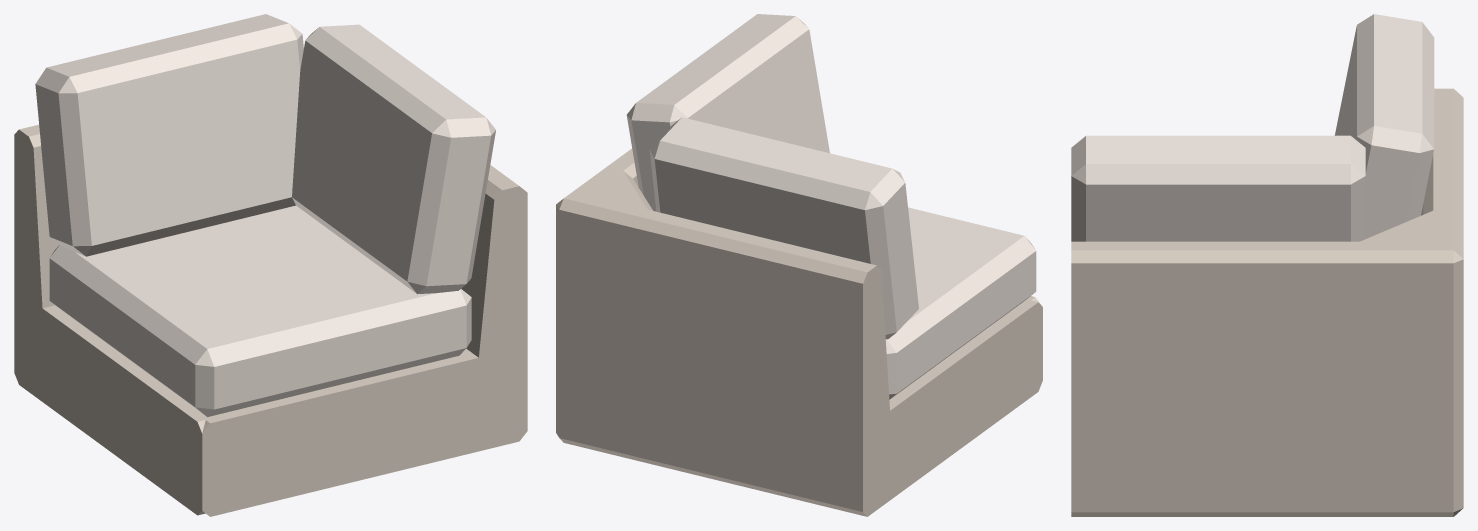
Rendered from Prop_Living_Room_Modular_Couch_Corner.glb.
The picture shows the model from 3 angles, left to right: view 1: azimuth 30°, elevation 25°; view 2: azimuth 150°, elevation 25°; view 3: azimuth 270°, elevation 25°; orthographic projection. The views are drawn at different scales.
Parts seen in each view (by area): view 1: Prop_Living_Room_Modular_Couch_Corner; view 2: Prop_Living_Room_Modular_Couch_Corner; view 3: Prop_Living_Room_Modular_Couch_Corner.
Boxes of the visible parts, x1,y1,x2,y2 form: Prop_Living_Room_Modular_Couch_Corner: [14, 14, 527, 516]; Prop_Living_Room_Modular_Couch_Corner: [556, 14, 1042, 516]; Prop_Living_Room_Modular_Couch_Corner: [1071, 14, 1463, 516].
Size of the model in its own units: 1 by 0.9777 by 1.
